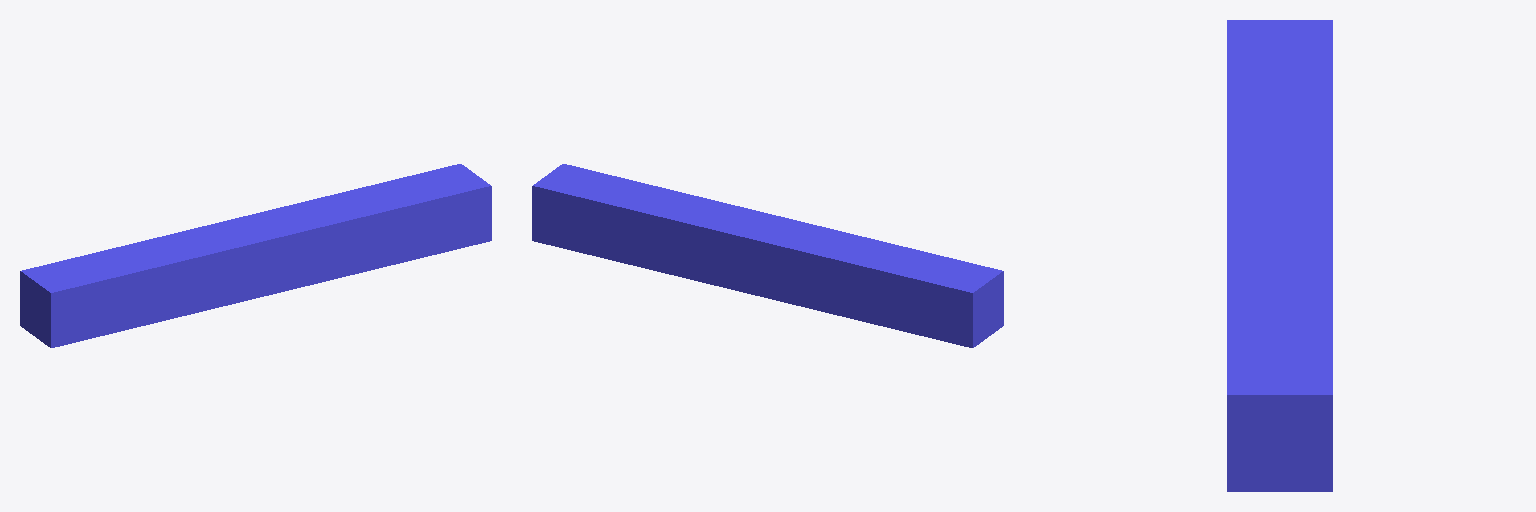
The robot description file, URDF, robot "block":
<robot name="block">
  <link name="block">
    <visual>
      <origin xyz="0 0 0"/>
      <geometry>
        <box size="0.5 0.060 0.060" />
      </geometry>
      <material name="red">
        <color rgba="0.4 0.4 1.0 1.0"/>
      </material>
    </visual>

    <collision>
      <origin xyz="0 0 0"/>
      <geometry>
        <box size="0.5 0.060 0.060" />
      </geometry>
    </collision>
<contact>
      <lateral_friction value="1.0"/>
      <rolling_friction value="0.0001"/>
      <inertia_scaling value="3.0"/>
    </contact>
    <inertial>
      <origin rpy="0 0 0" xyz="0 0 0"/>
       <mass value="0.1"/>
       <inertia ixx="1" ixy="0" ixz="0" iyy="1" iyz="0" izz="1"/>
    </inertial>
  </link>

</robot>

--- Render facts (derived) ---
Views: 3 orthographic renders of the robot side by side, from view 1: azimuth 30°, elevation 25°; view 2: azimuth 150°, elevation 25°; view 3: azimuth 270°, elevation 25°.
Robot: block — 1 links, 0 joints (none); root link block; default pose: all joints at 0.
Links seen in each view (by area): view 1: block; view 2: block; view 3: block.
Boxes of the visible links, x1,y1,x2,y2 form: block: (20, 164, 491, 347); block: (532, 164, 1003, 347); block: (1227, 20, 1332, 491).
Size in the robot's own frame: 0.5 by 0.06 by 0.06 metres.
Geometry: primitives only (box / cylinder / sphere), no mesh files.